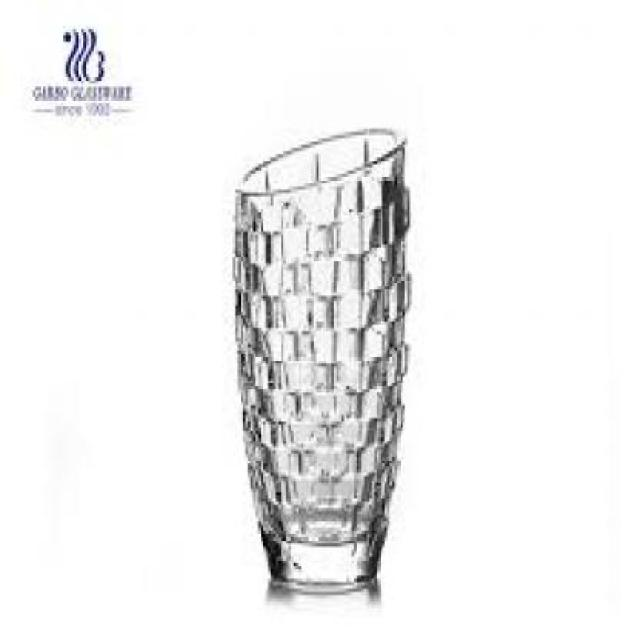kaca: (232, 123, 408, 586)
